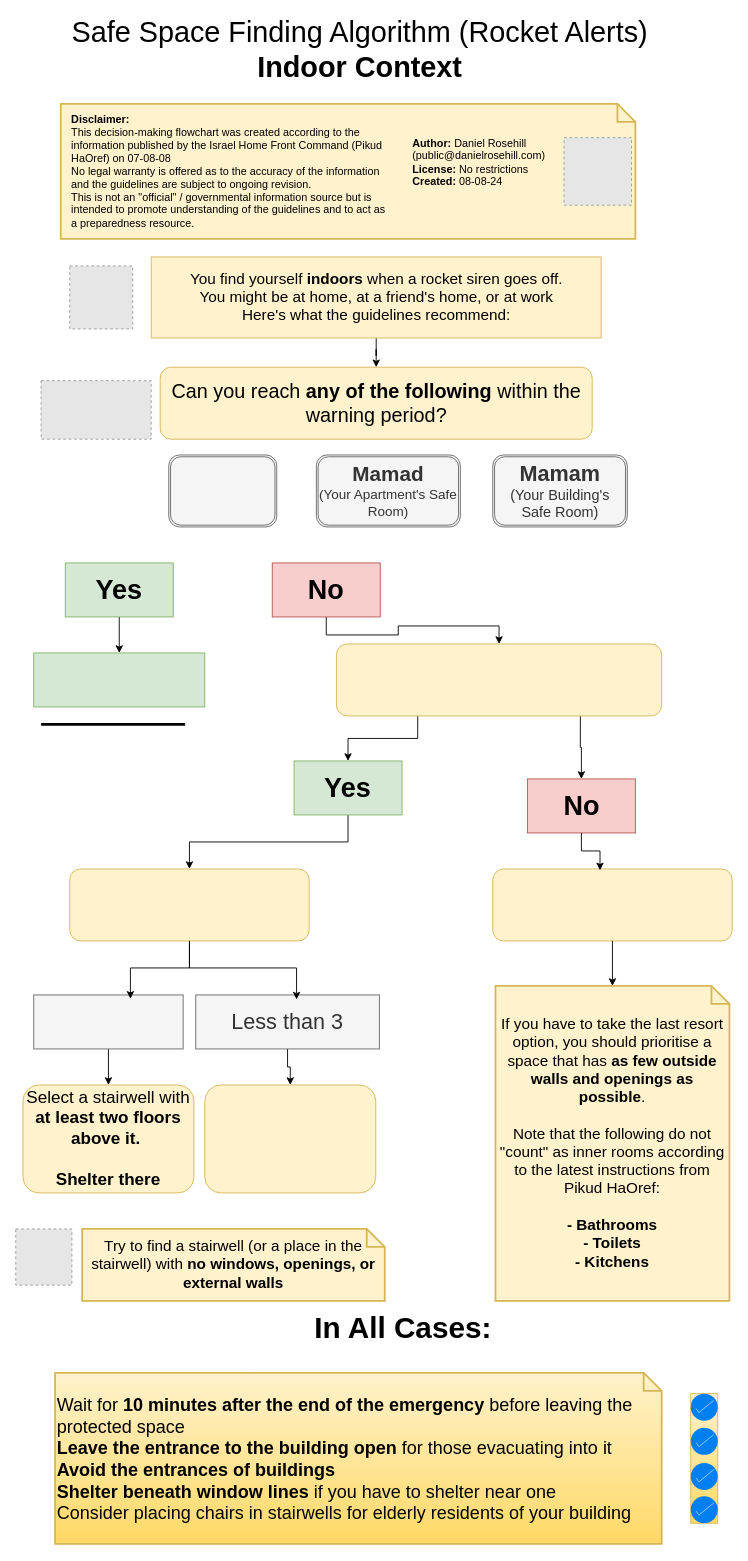
Image size: 748x1561. Some labels were removed from this diagram. Grey dashed boxes stand in for pictures. The centre of each missing label's shape, as x and y in pixels:
"3 or more" goes at (108,1021).
"Can you access a stairwell in your building within the warning period?" goes at (499,679).
"Choose the middle floor stairwell. Shelter there" goes at (290,1138).
"Go to whichever is closest ASAP" goes at (119,679).
"How many floors does your building have?" goes at (189,904).
"Miklat (Public Shelter)" goes at (222,490).
"Shelter in an unprotected (ie 'regular') room in the building" goes at (612,904).
